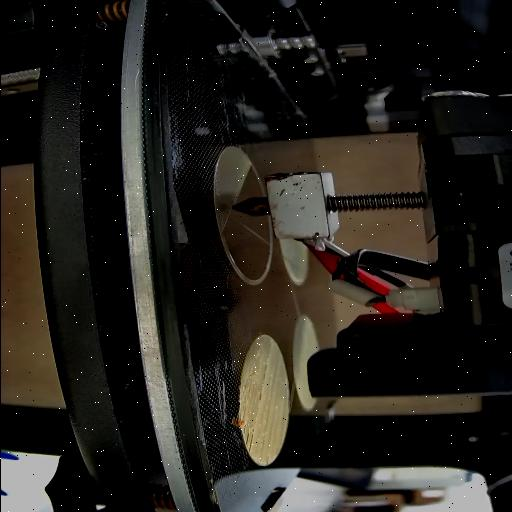under_extrusion: (255, 342, 275, 400), (238, 422, 256, 452), (260, 456, 272, 466)
